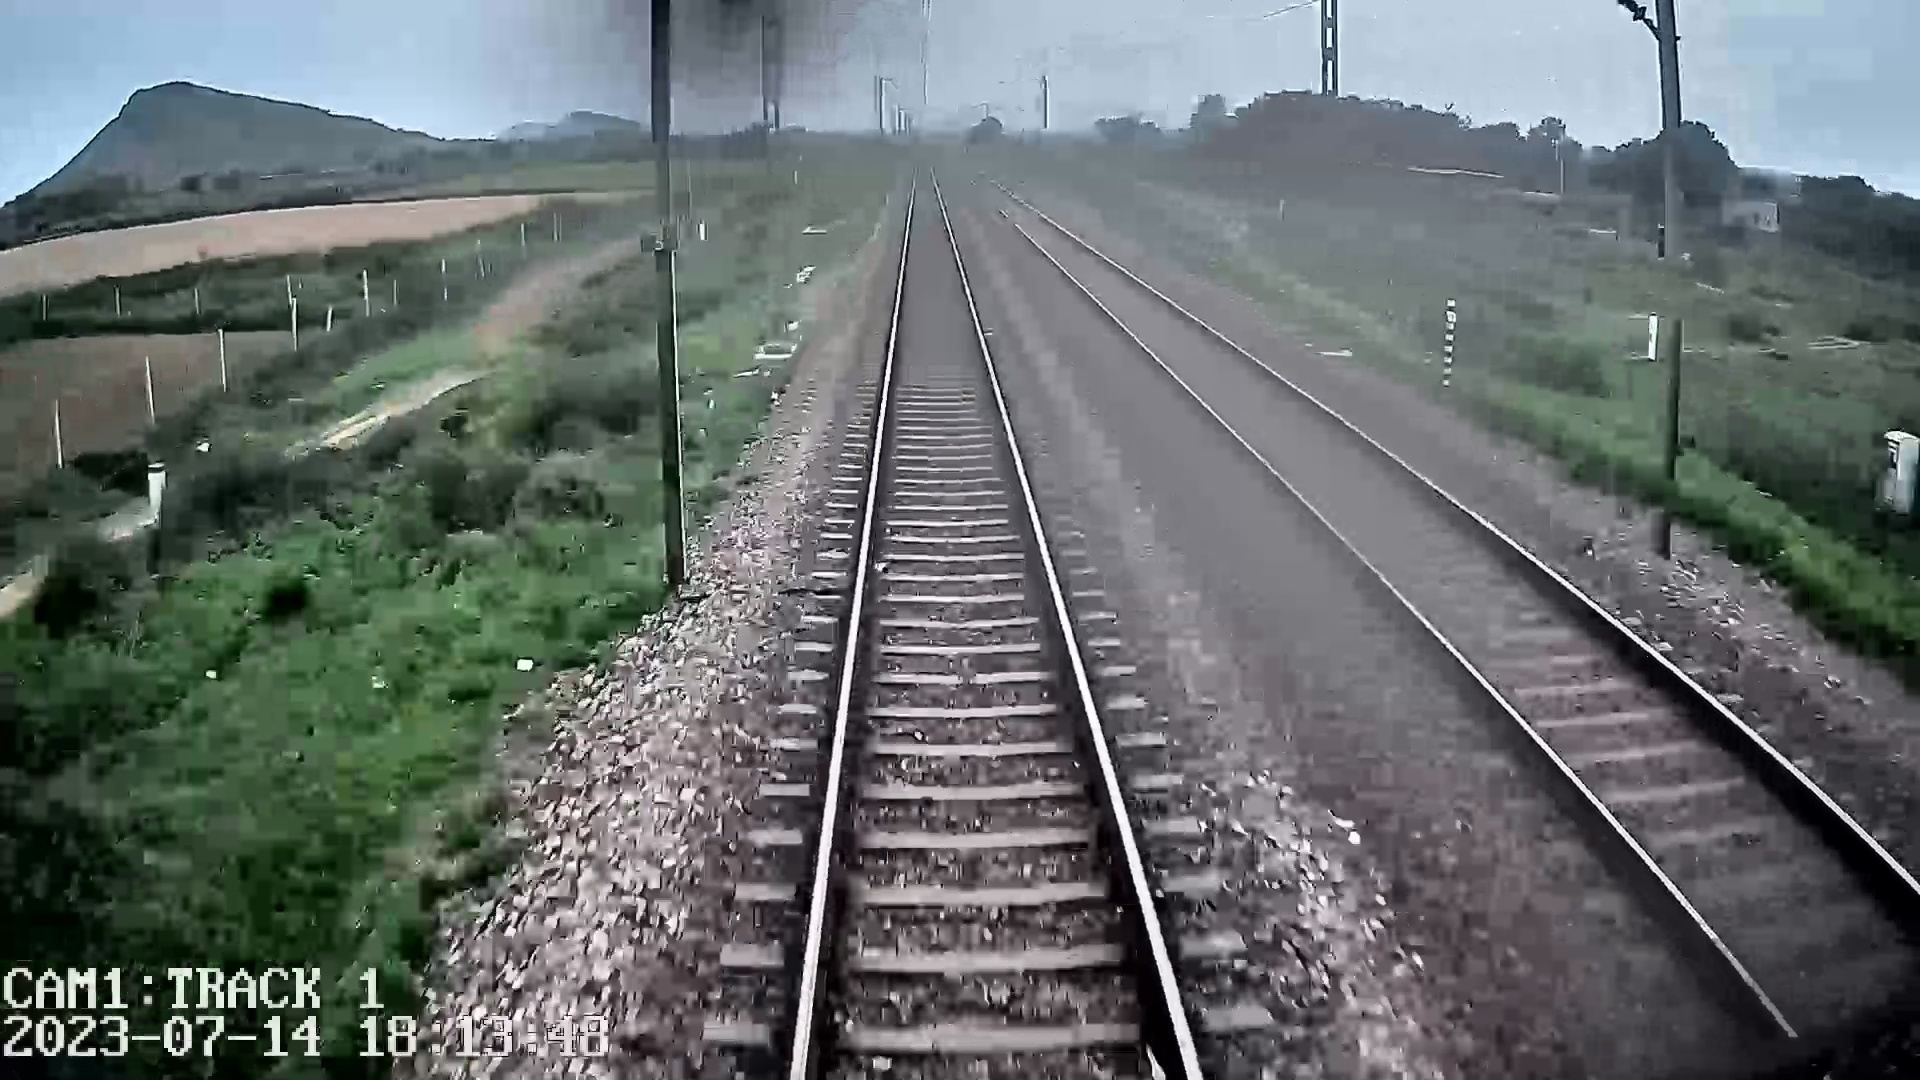track1: (800, 178, 1189, 1058)
track2: (1013, 212, 1919, 1025)
